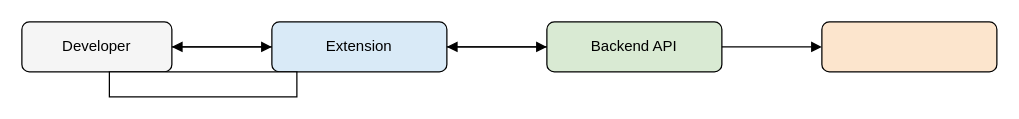
Some shapes in this 1019 by 119 pixel diagram are drawn without their labels. The centre of each missing label's shape, as x and y in pixels:
Knowledge Base: point (909, 46)
Trigger ingest source: point (202, 84)
